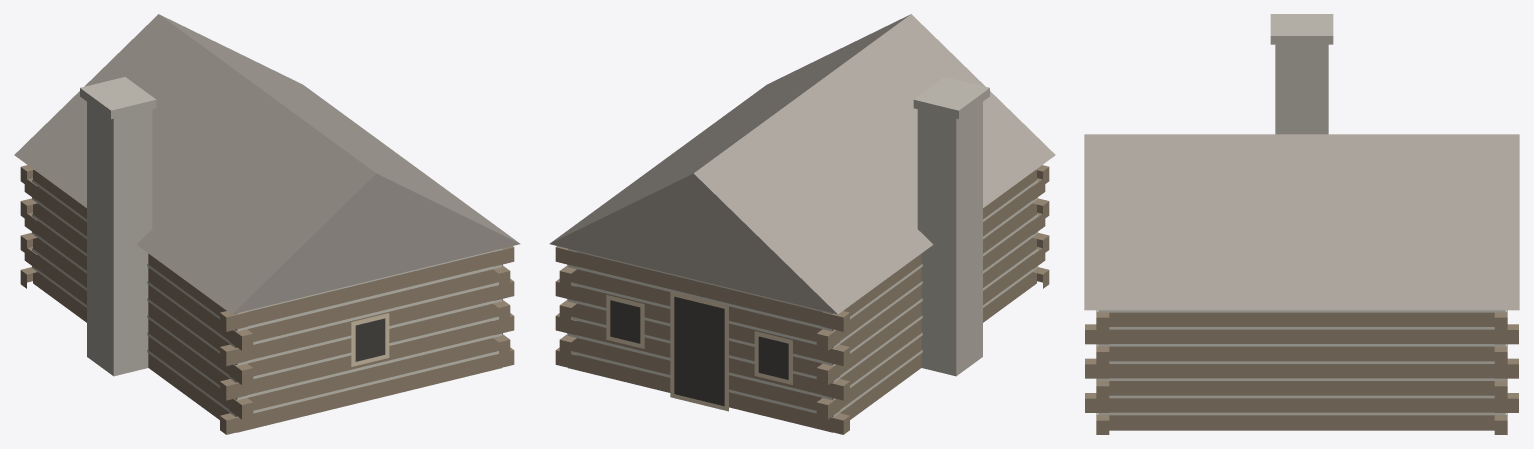
The model's file is recon_1835_west_014__inferred_1835.glb.
3 views of the same model, side by side, from view 1: azimuth 30°, elevation 25°; view 2: azimuth 150°, elevation 25°; view 3: azimuth 270°, elevation 25° (orthographic).
Visible parts, largest first — view 1: recon_1835_west_014__inferred_1835; view 2: recon_1835_west_014__inferred_1835; view 3: recon_1835_west_014__inferred_1835.
Part boxes in pixels (x1=…): recon_1835_west_014__inferred_1835: x1=14, y1=14, x2=520, y2=434; recon_1835_west_014__inferred_1835: x1=549, y1=14, x2=1055, y2=434; recon_1835_west_014__inferred_1835: x1=1084, y1=14, x2=1519, y2=434.
Bounding box in the file's own units: 6.56 × 5.38 × 7.82.
